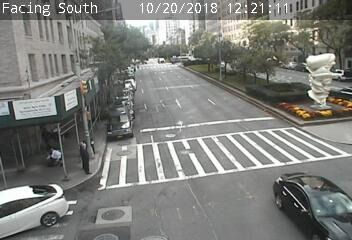car: (273, 173, 352, 240)
